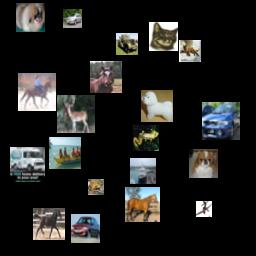airplane: (196, 201, 212, 217)
automobile: (202, 102, 240, 140), (71, 214, 100, 243), (63, 9, 82, 28)
cat: (149, 22, 178, 51), (179, 40, 201, 62)
deer: (57, 95, 95, 133)
dog: (141, 90, 173, 122), (189, 149, 218, 178), (16, 3, 45, 32)
frog: (133, 125, 159, 151), (88, 179, 104, 195)
ship: (49, 137, 81, 169), (130, 158, 156, 184)
truck: (10, 147, 45, 182), (116, 33, 138, 55)
